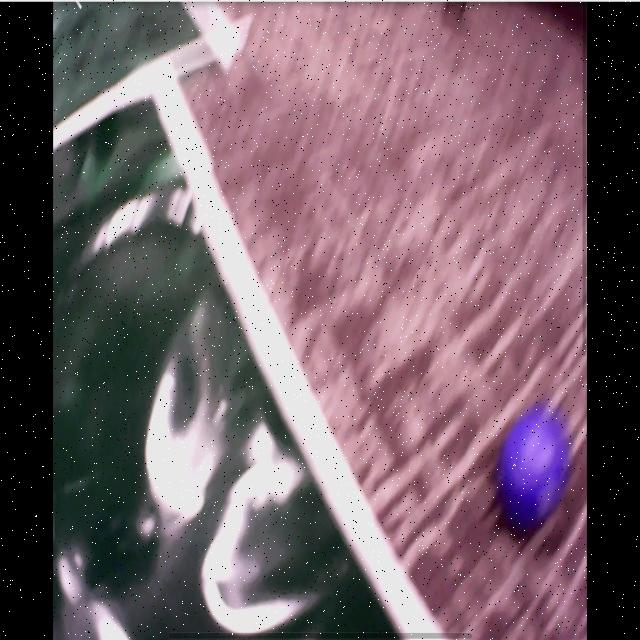ball: (504, 413, 566, 519)
